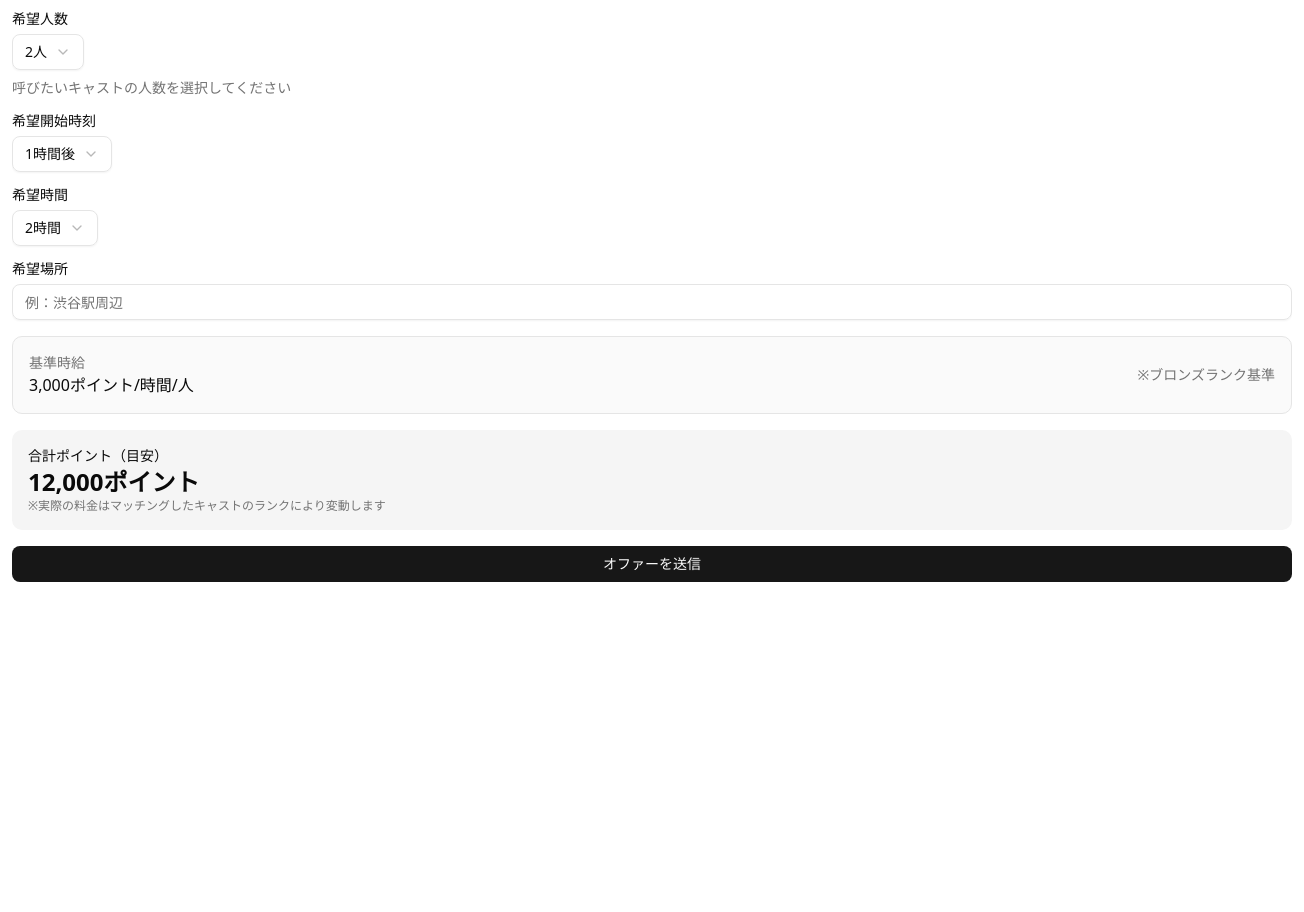
GroupMatchingOfferForm › 合計ポイント計算 › 時間を変更すると合計ポイントが再計算される
The width and height of the screenshot is (1304, 912).
Expected: the text "12,000ポイント" is shown, [28,465,200,498]
What coordinates should you click on to do the following:
click the dropdown labelled "2時間"
I would click on:
 (55, 228)
Its box is [12,210,98,246].
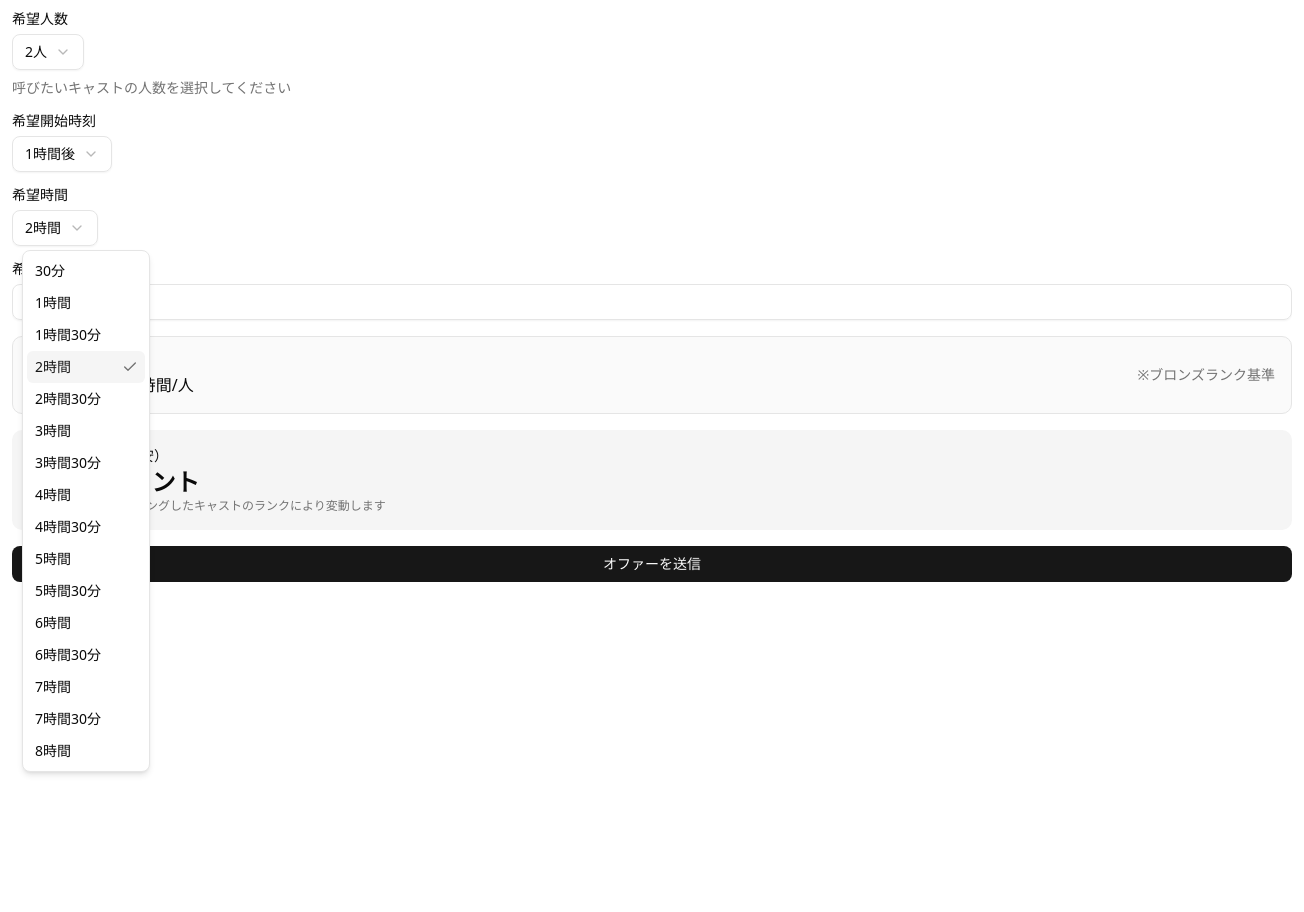
What coordinates should you click on to do the following:
click the option "3時間"
I would click on:
 (53, 430)
Its box is [35,421,71,440].
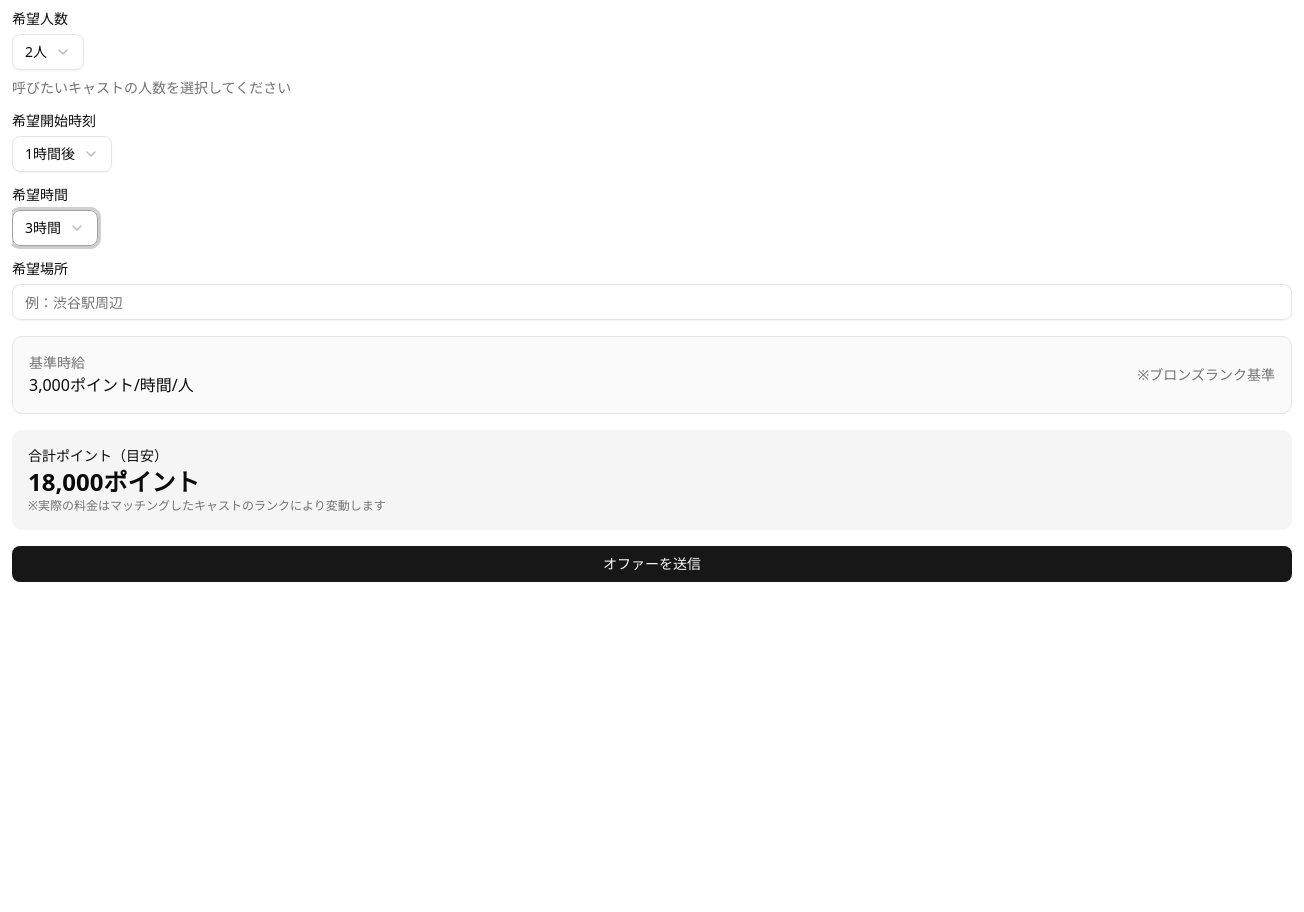
Result: the text "18,000ポイント" is shown at [28,465,200,498]
